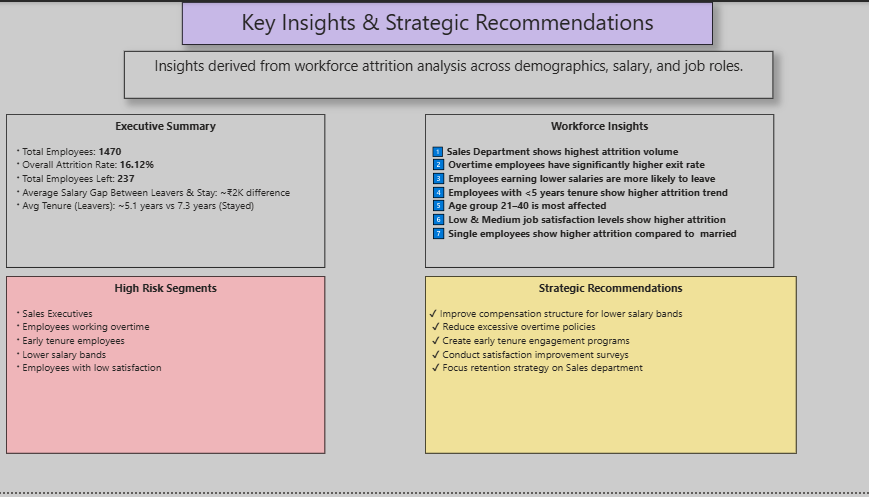

The dashboard page shown, as its layout file describes it:
{"tool":"powerbi","page":{"name":"Insights","canvas":[1280,720],"ordinal":2},"visuals":[{"type":"textbox","box":[270,0,780,62.9],"z":0},{"type":"textbox","box":[185.7,71.4,954.3,70],"z":1000},{"type":"textbox","box":[11.4,164.3,468.6,225.7],"z":2000},{"type":"textbox","box":[627.1,164.3,512.9,225.7],"z":3000},{"type":"textbox","box":[11.4,402.9,468.6,261.4],"z":4000},{"type":"textbox","box":[627.1,402.9,545.7,261.4],"z":5000}]}

Visuals, with their boxes in screenshot pixels (x1, y1, x2, y2), scaled from the page's 1280x720 canvas onto the 869x497 screenshot:
textbox: 183/0/713/43
textbox: 126/49/774/98
textbox: 8/113/326/269
textbox: 426/113/774/269
textbox: 8/278/326/459
textbox: 426/278/796/459
